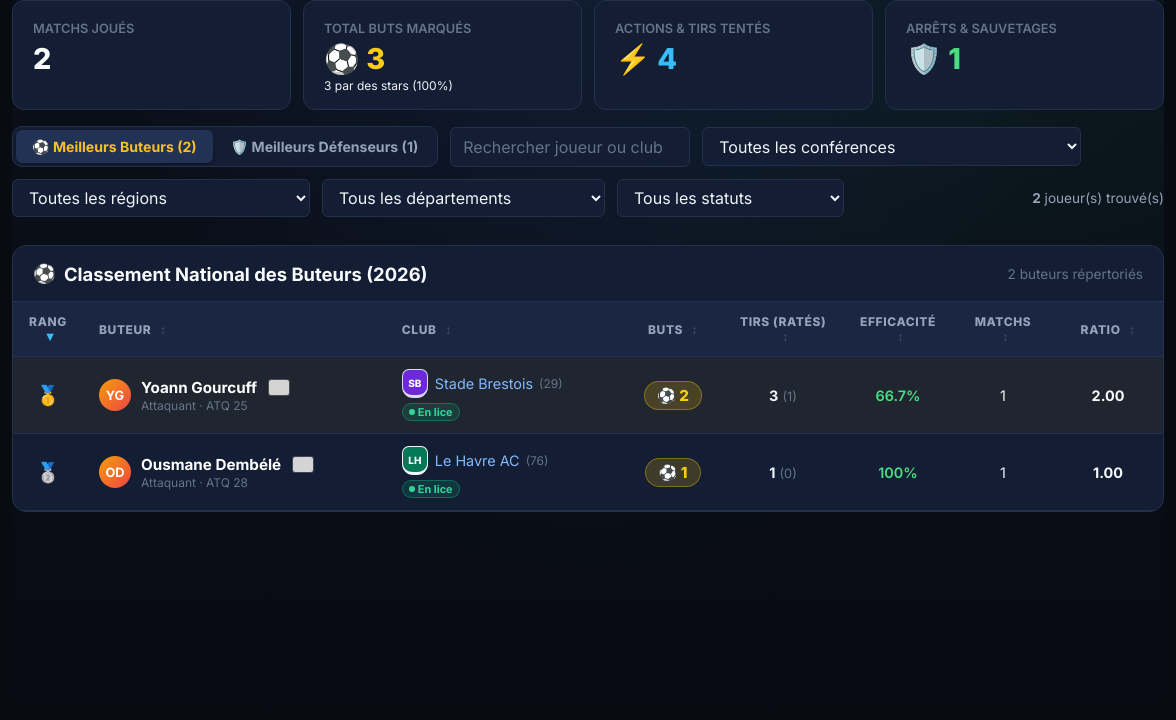
CompetitionStatsView › filters by department directly and syncs region and conference
# Select Finistère (29)
Select "Finistère (29)" in the dropdown named "Filtrer par département": [464, 198] box [322,179,605,217]
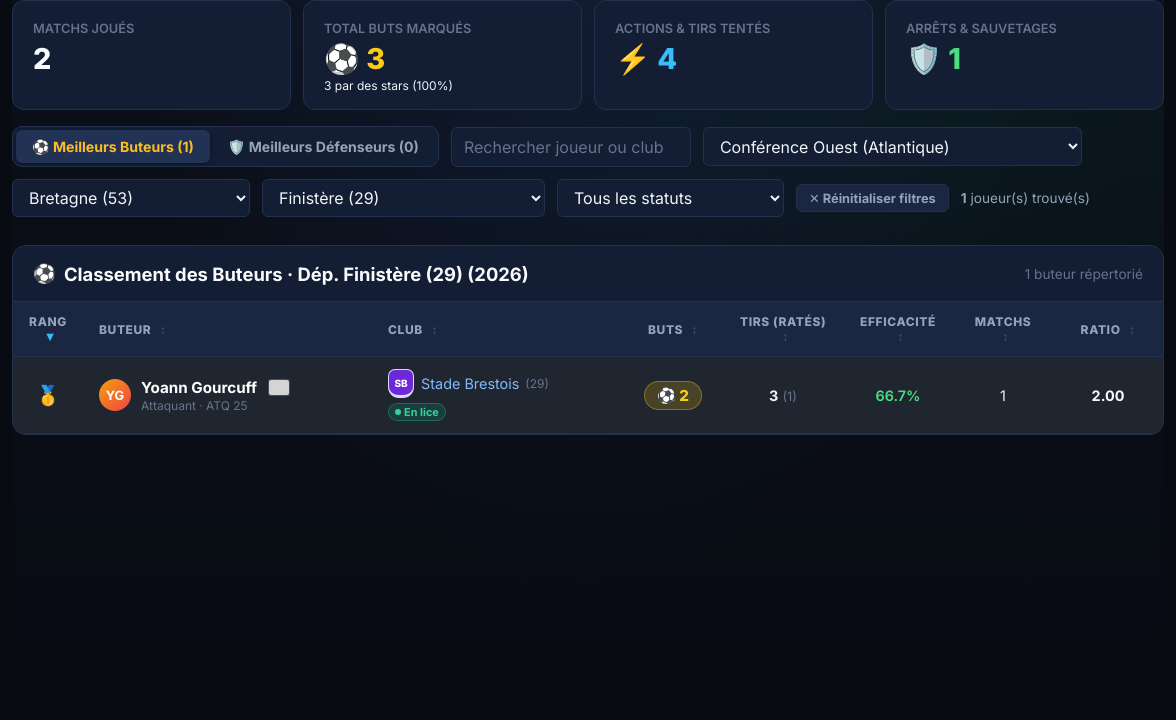
Result: the dropdown named "Filtrer par région" shows "Bretagne (53)" at [12,179,250,217]
Result: the dropdown named "Filtrer par conférence" shows "Conférence Ouest (Atlantique)" at [703,127,1082,166]
Result: the heading "⚽ Classement des Buteurs · Dép. Finistère (29) (2026)" is shown at [33,262,529,285]
